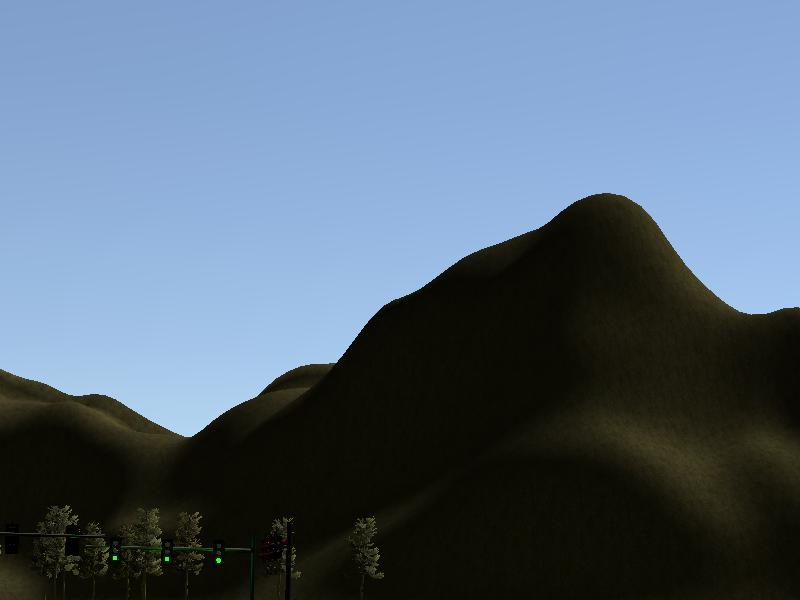Green: (108, 534, 122, 565), (161, 535, 174, 567), (213, 538, 225, 566)
